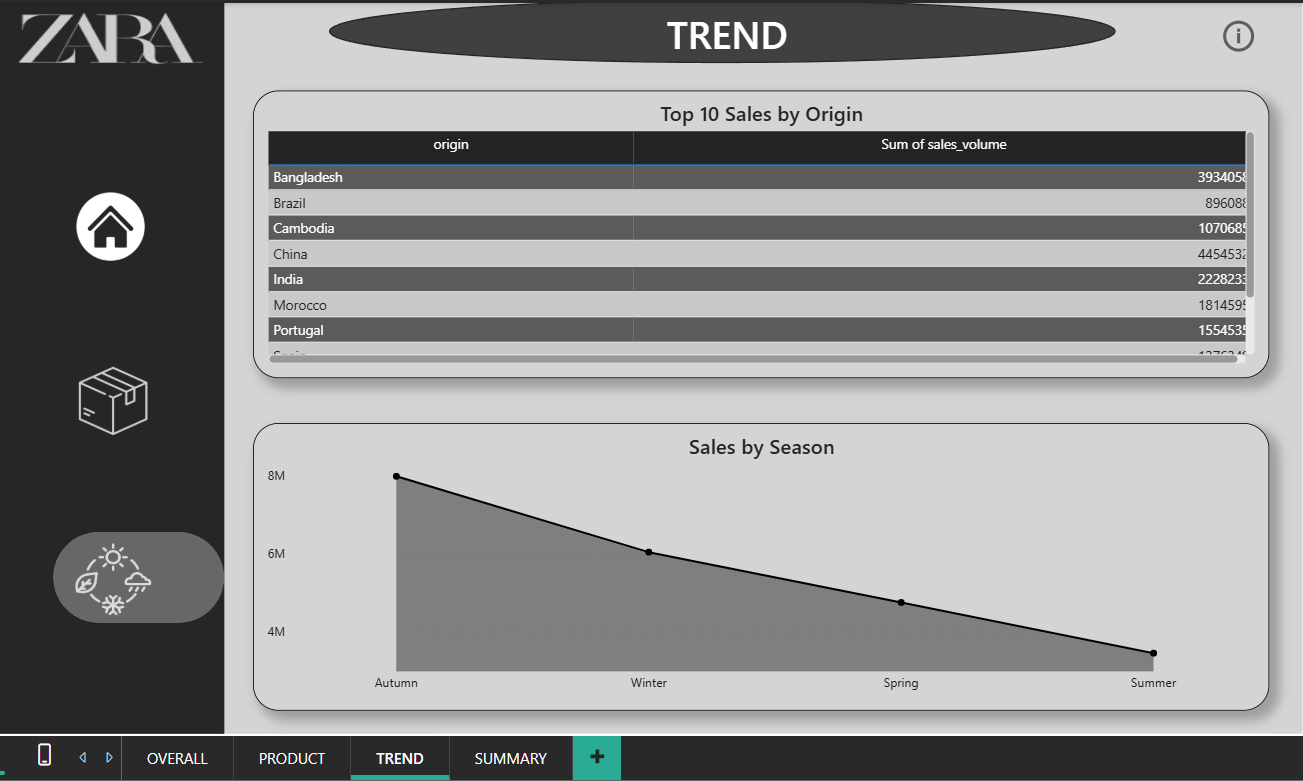

The page's visual inventory and layout, read from the dashboard file:
{"tool":"powerbi","page":{"name":"TREND","canvas":[1280,720],"ordinal":2},"visuals":[{"type":"textbox","box":[651.5,0,142.3,66.3],"z":0},{"type":"shape","box":[54,519,168.1,89.6],"z":1000},{"type":"lineChart","title":"Sales by Season","fields":{"Category":["Zara_sales_EDA.season"],"Y":["Sum(Zara_sales_EDA.sales_volume)"]},"box":[250.3,412.3,997.6,282.2],"z":2000},{"type":"tableEx","title":"Top 10 Sales by Origin","fields":{"Values":["Zara_sales_EDA.origin","Sum(Zara_sales_EDA.sales_volume)"]},"box":[250.3,85.9,997.6,282.2],"z":2001},{"type":"actionButton","box":[50.3,170.6,171.8,89.6],"z":2004},{"type":"actionButton","box":[50.3,347.2,171.8,89.6],"z":2005},{"type":"actionButton","box":[1197.6,12.3,50.3,40.5],"z":2006}]}

Visuals, with their boxes on the page's 1280x720 design canvas (x1, y1, x2, y2). These are canvas units, not pixel positions in the 1303x781 screenshot, which may show the page scaled, cropped or inside an application window:
textbox: 652 0 794 66
shape: 54 519 222 609
"Sales by Season" lineChart: 250 412 1248 694
"Top 10 Sales by Origin" tableEx: 250 86 1248 368
actionButton: 50 171 222 260
actionButton: 50 347 222 437
actionButton: 1198 12 1248 53
